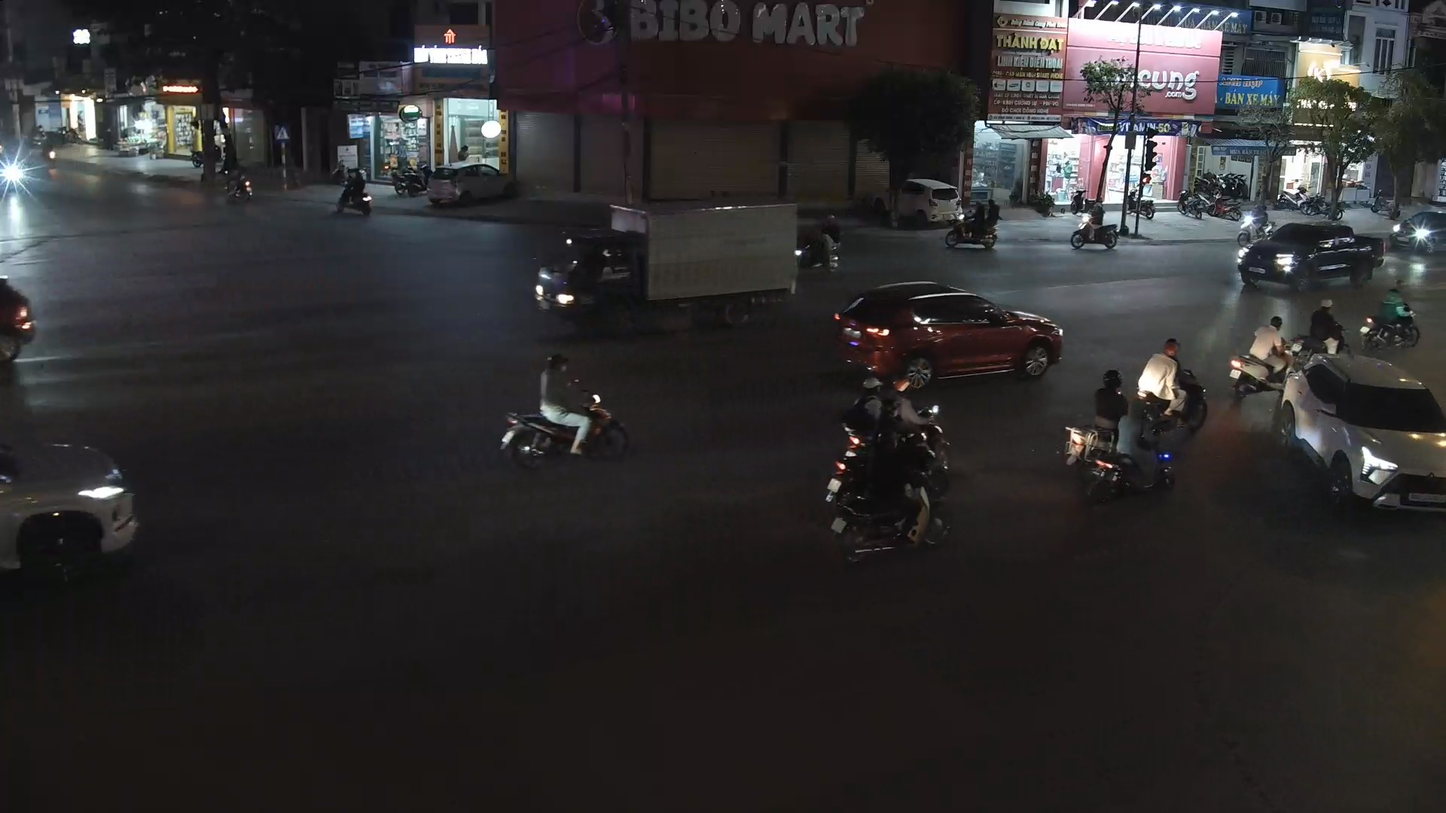car: (1277, 351, 1445, 518), (838, 280, 1066, 391), (0, 436, 142, 585), (1237, 215, 1385, 296), (0, 269, 36, 365)
motorbike: (828, 419, 953, 569), (498, 351, 633, 472), (1075, 369, 1179, 508), (1226, 311, 1343, 401), (1135, 335, 1211, 447), (1358, 275, 1424, 354), (942, 193, 1001, 251)
